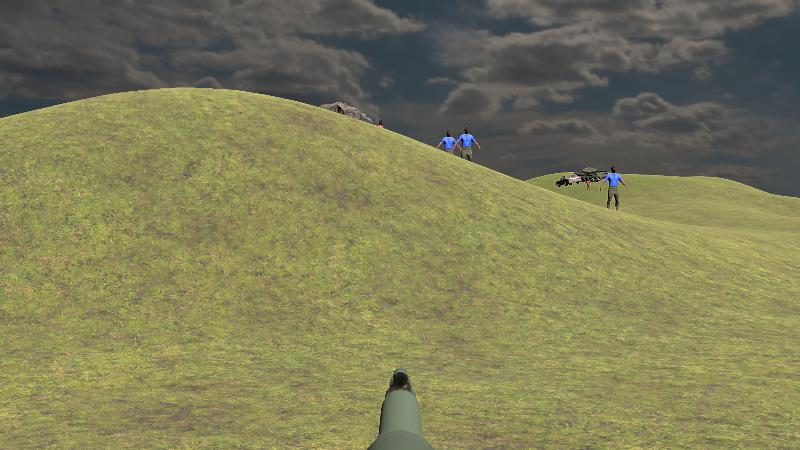Human: (600, 165, 628, 220), (454, 126, 480, 179), (436, 129, 461, 172)
